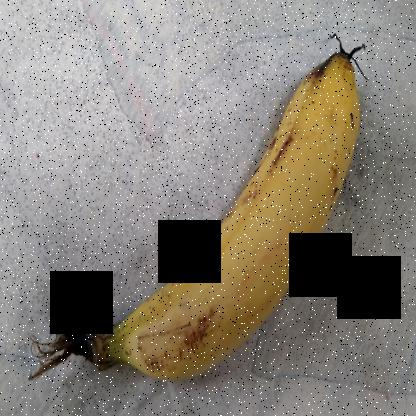ripe: (119, 35, 369, 405)
